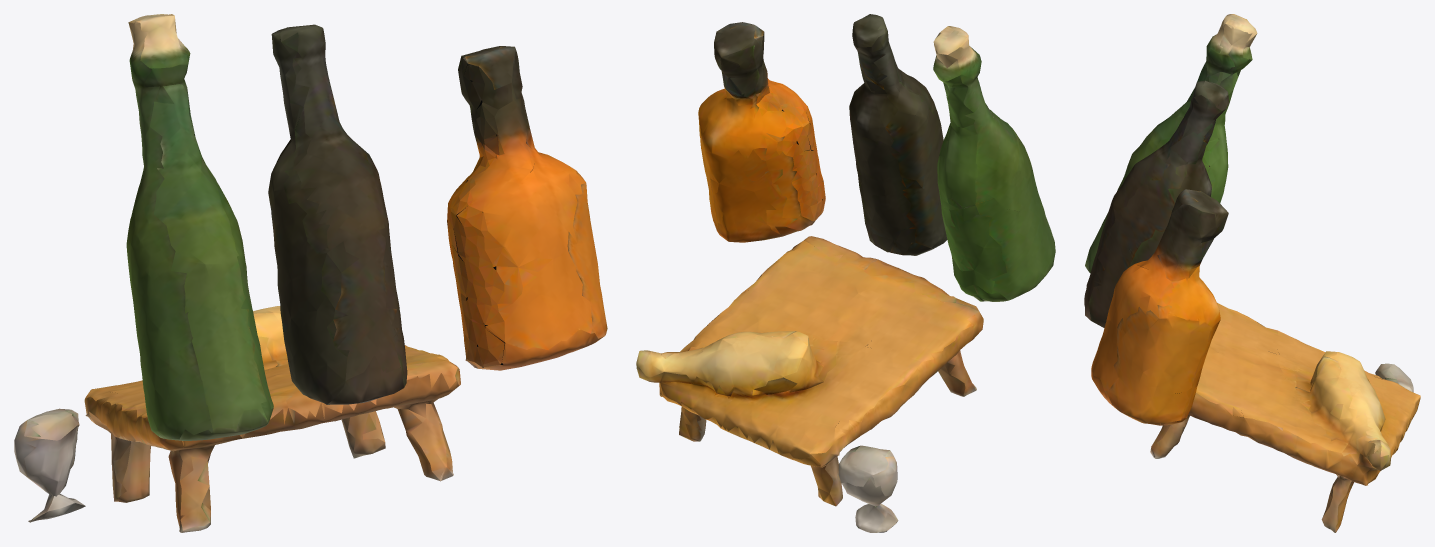
Rendered from bottle_w_table.glb.
The picture shows the model from 3 angles, left to right: view 1: azimuth 30°, elevation 25°; view 2: azimuth 150°, elevation 25°; view 3: azimuth 270°, elevation 25°; orthographic projection. The views are drawn at different scales.
Visible parts, largest first — view 1: world; view 2: world; view 3: world.
Part boxes in pixels (box(x1,y1,x2,y2)): world: box(14, 14, 607, 532); world: box(636, 14, 1055, 532); world: box(1084, 14, 1420, 532).
Bounding box in the file's own units: 0.5519 × 0.6943 × 0.4931.
1 material, 1 textured.
